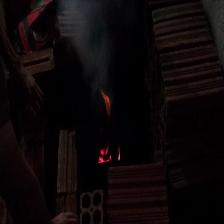fire: (93, 145, 122, 165), (96, 95, 112, 118)
smoke: (71, 13, 111, 74)
